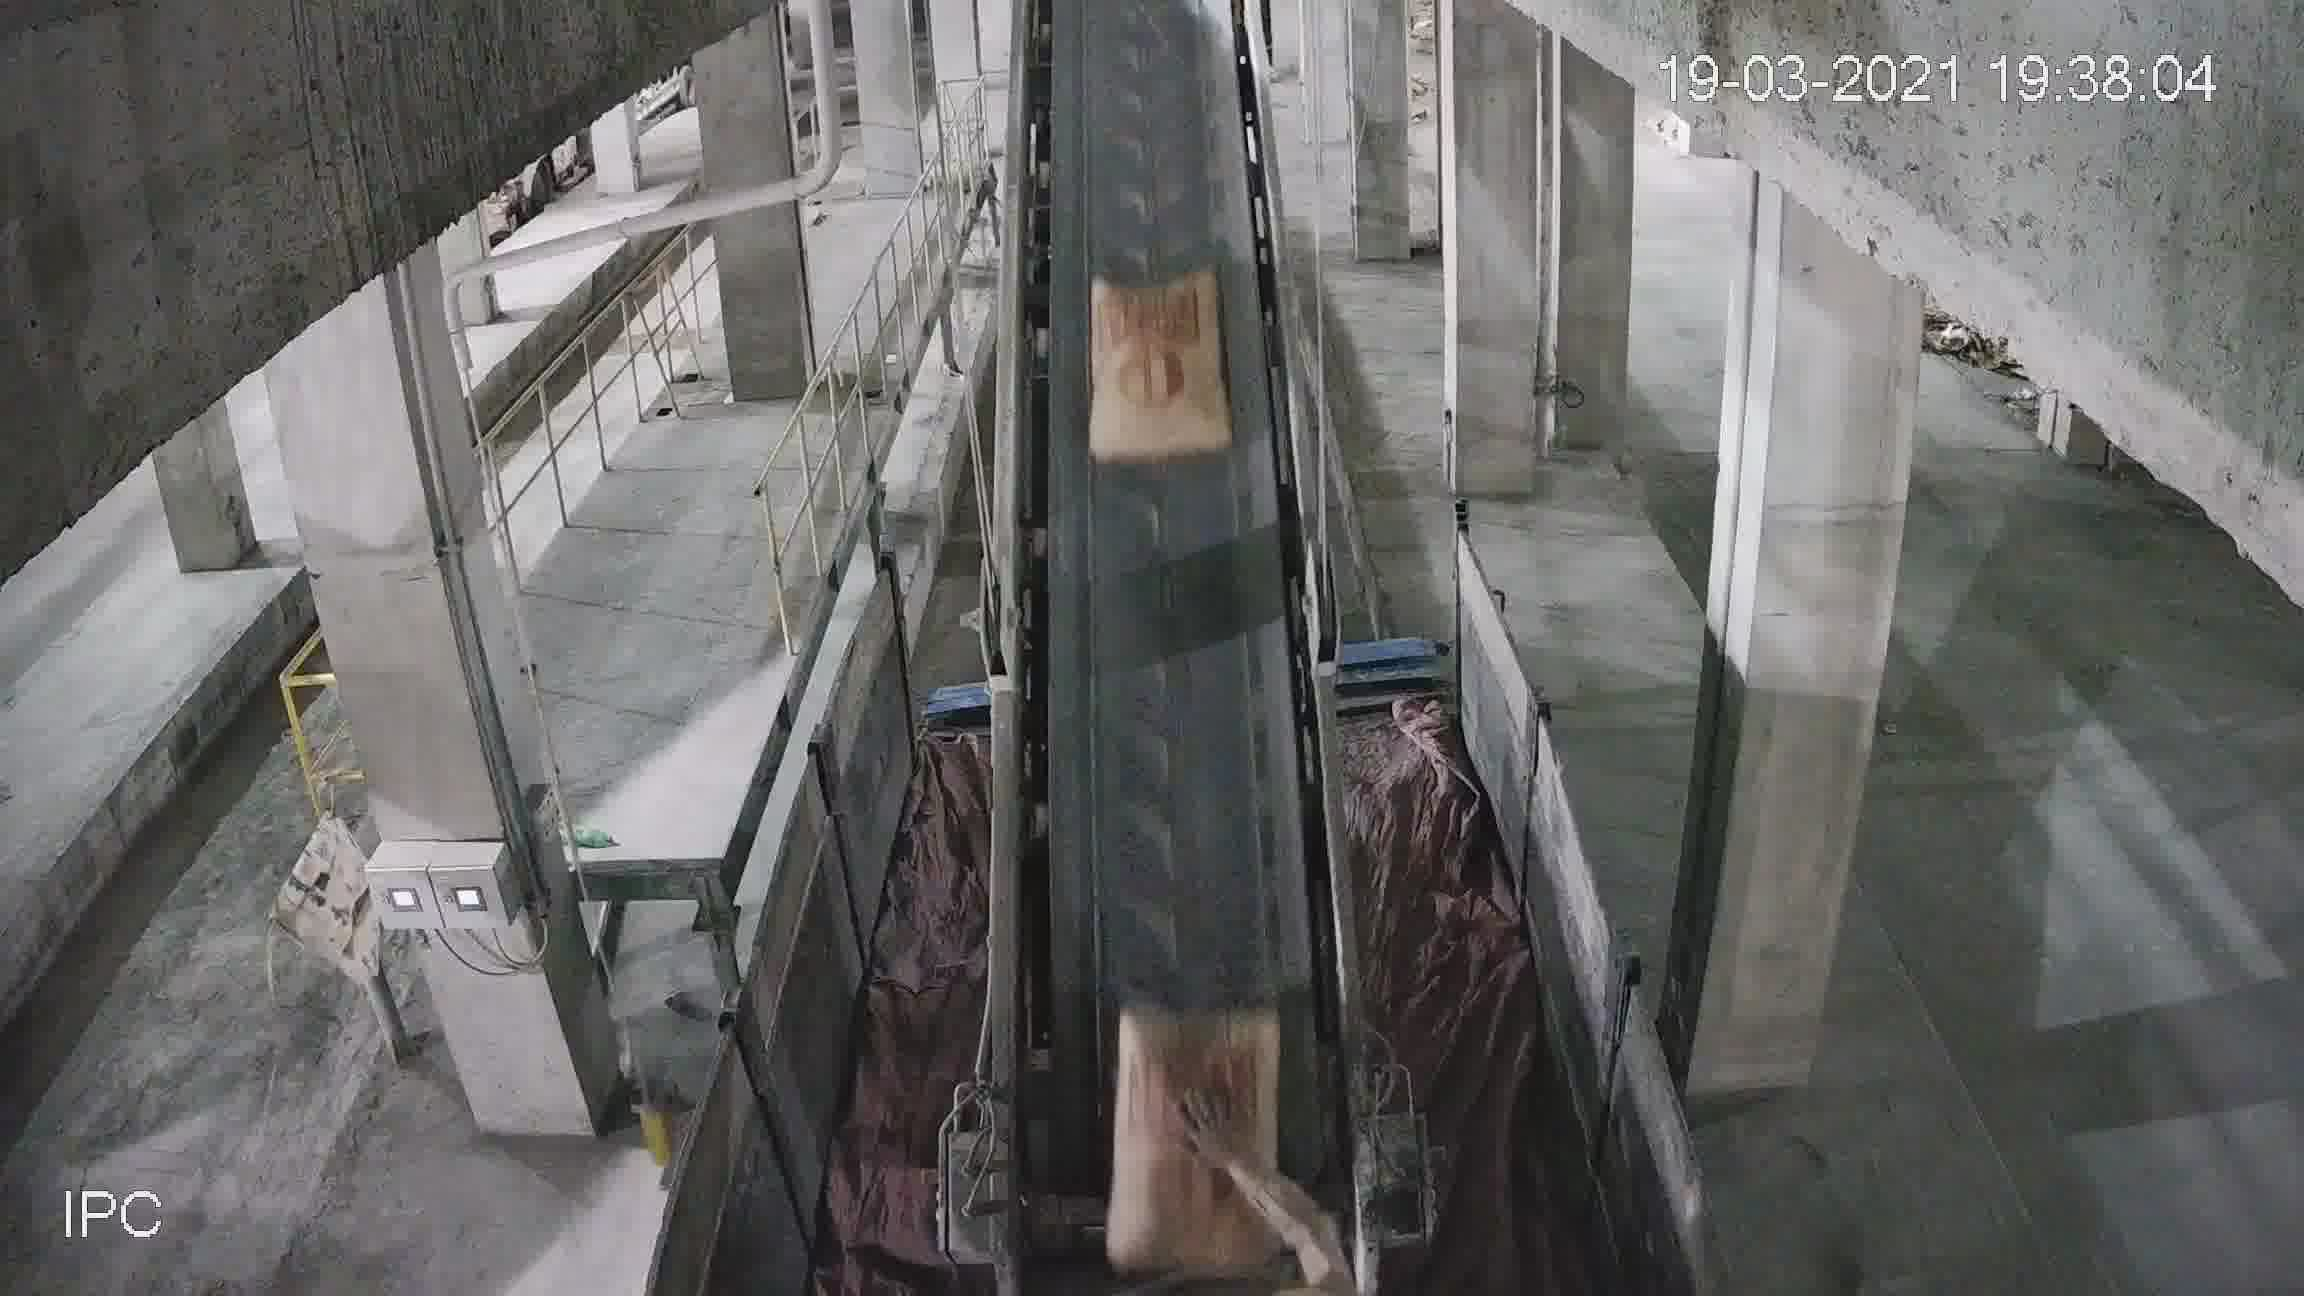bag: (1086, 280, 1225, 460), (1119, 1017, 1275, 1177)
belt: (987, 43, 1345, 1144)
